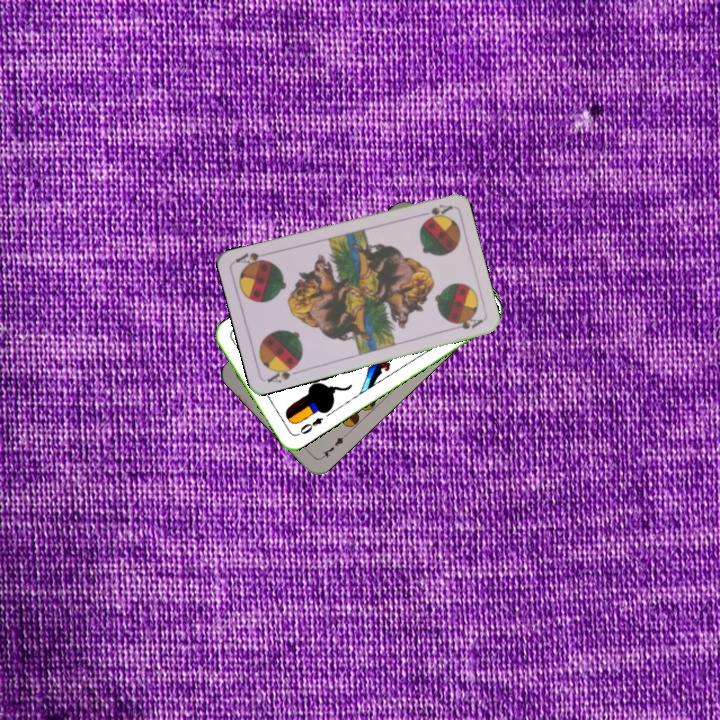E7: (317, 431, 349, 462)
EO: (293, 413, 326, 438)
SA: (263, 360, 303, 385), (414, 200, 454, 220)
